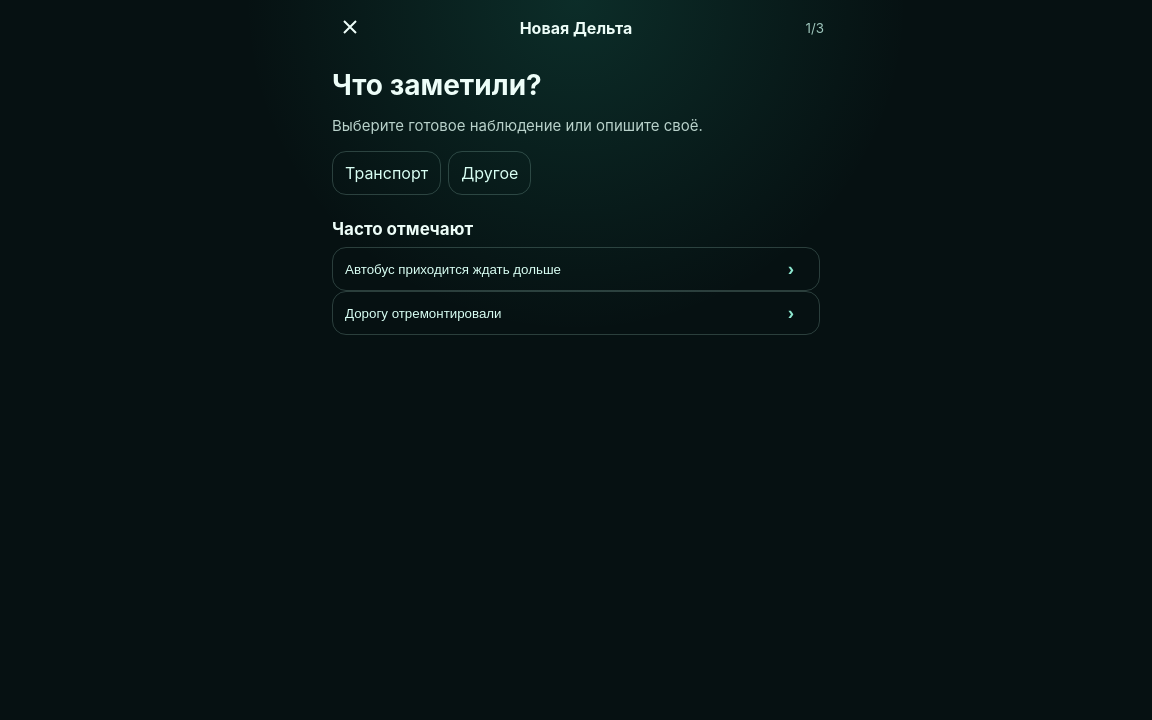
Test case: MobileDeltaCreateFlow observation controller › manual map selection requires explicit point confirmation
Click the button "Автобус приходится ждать дольше ›". click: (453, 269)
box: [332,247,820,291]
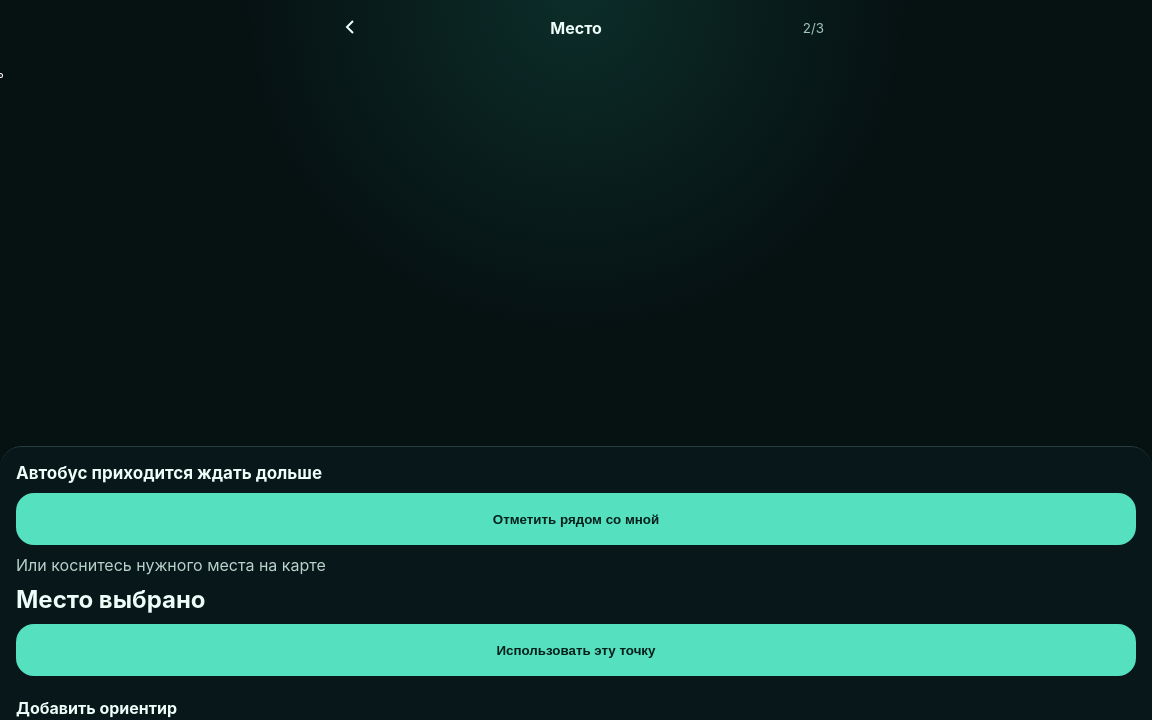
Result: the button "Использовать эту точку" is shown
Click the button "Использовать эту точку". click: (576, 650)
box: [16,624,1136,676]
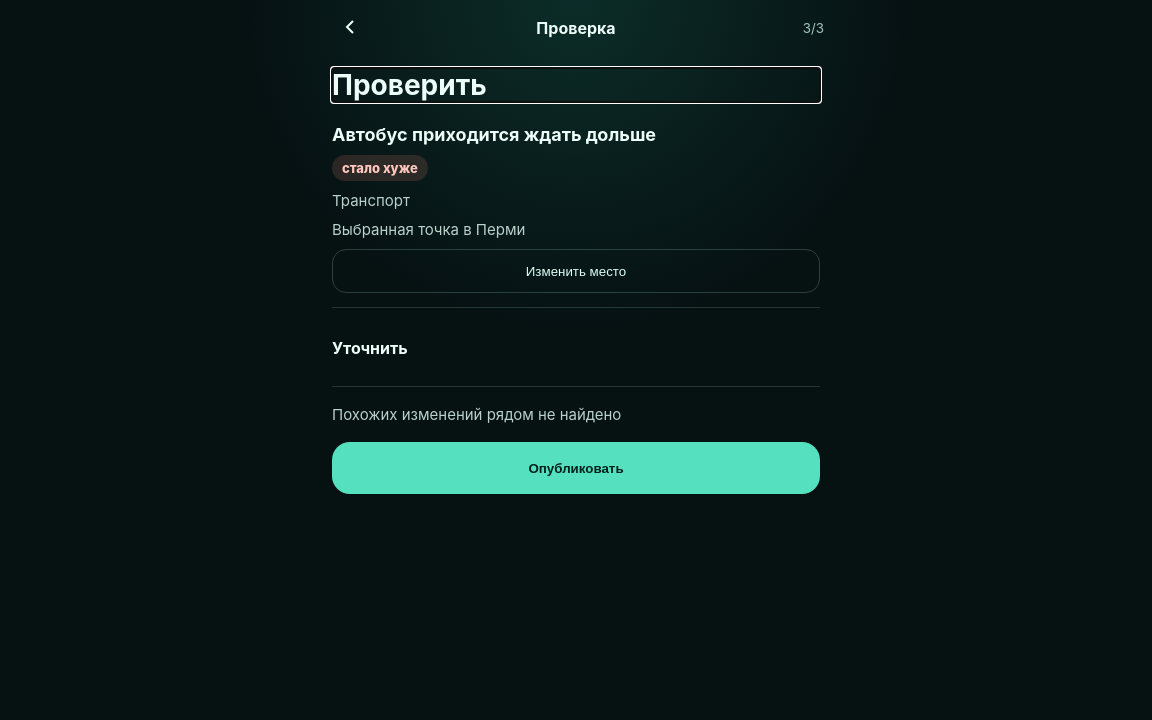
Result: the heading "Проверить" is shown at [332,68,487,102]
